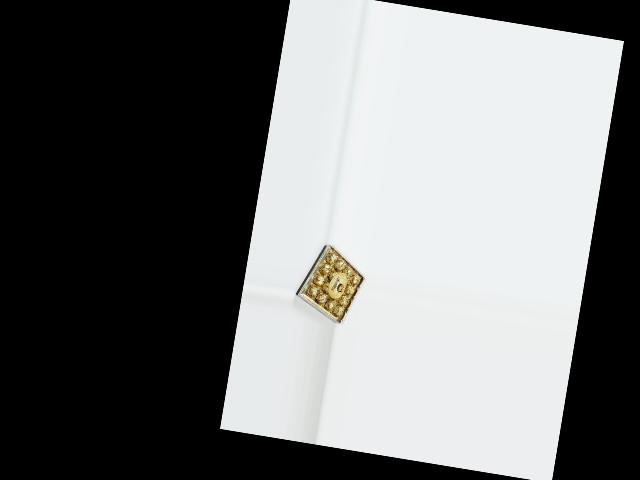chocolate: (290, 239, 370, 328)
